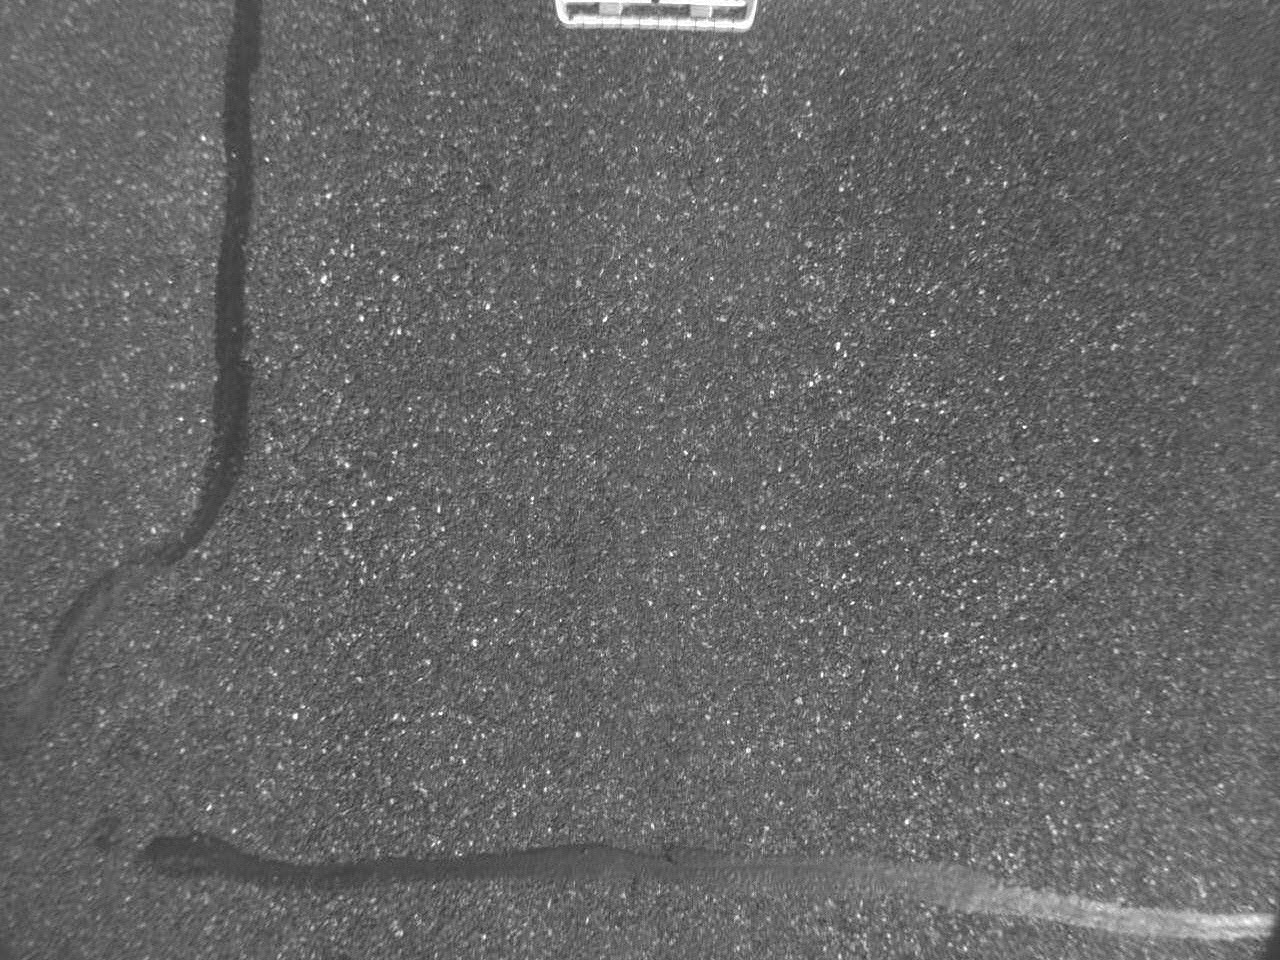sealed: (18, 6, 301, 714), (133, 818, 1266, 944)
